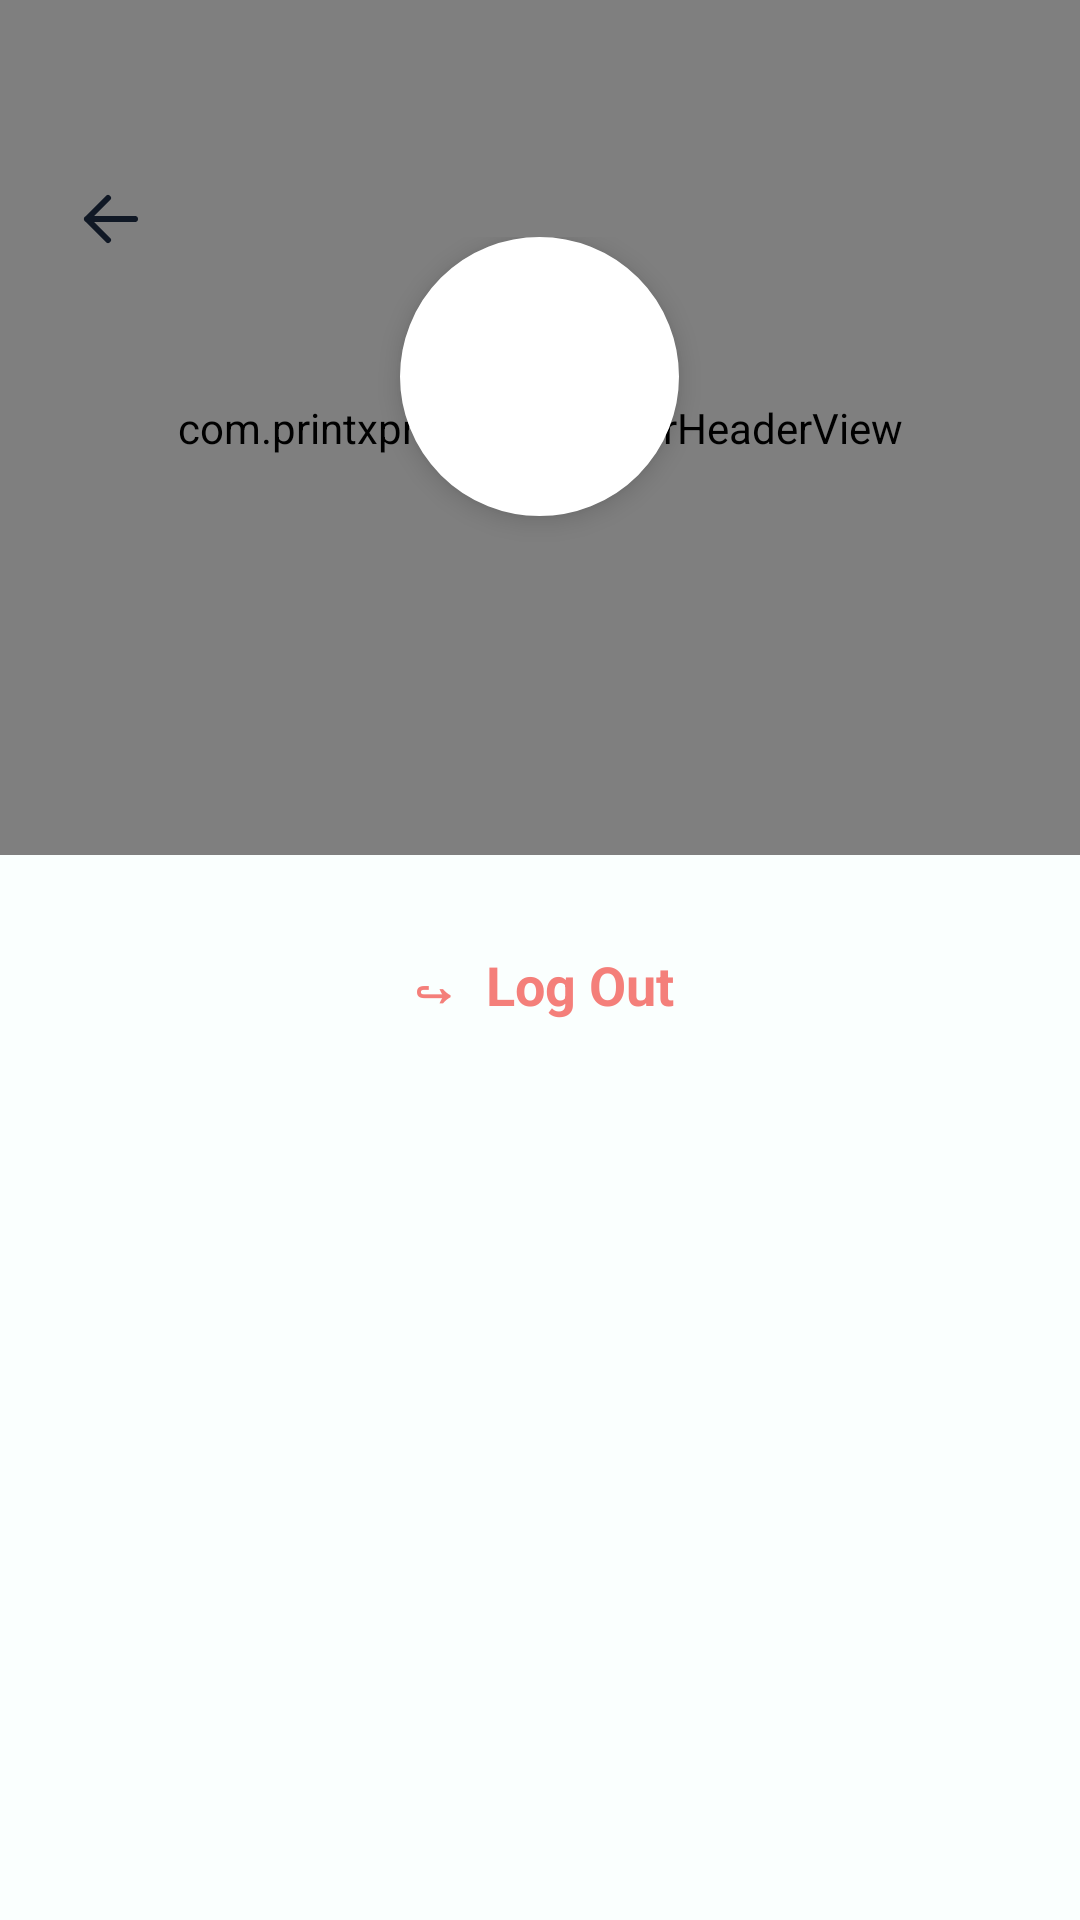

Icon click points for this 1080w x 1920h phone screenshot, format (x=x, y=y):
Back to home: (x=111, y=219)
